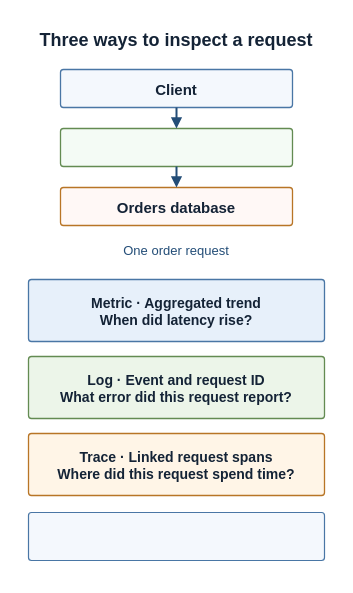
Image size: 353x593. Some labels were removed from this diagram. The centre of each missing label's shape, as x and y in pixels:
Find the change in metrics. Use the request ID to link logs and traces.: (x=176, y=536)
Order API: (x=176, y=147)
